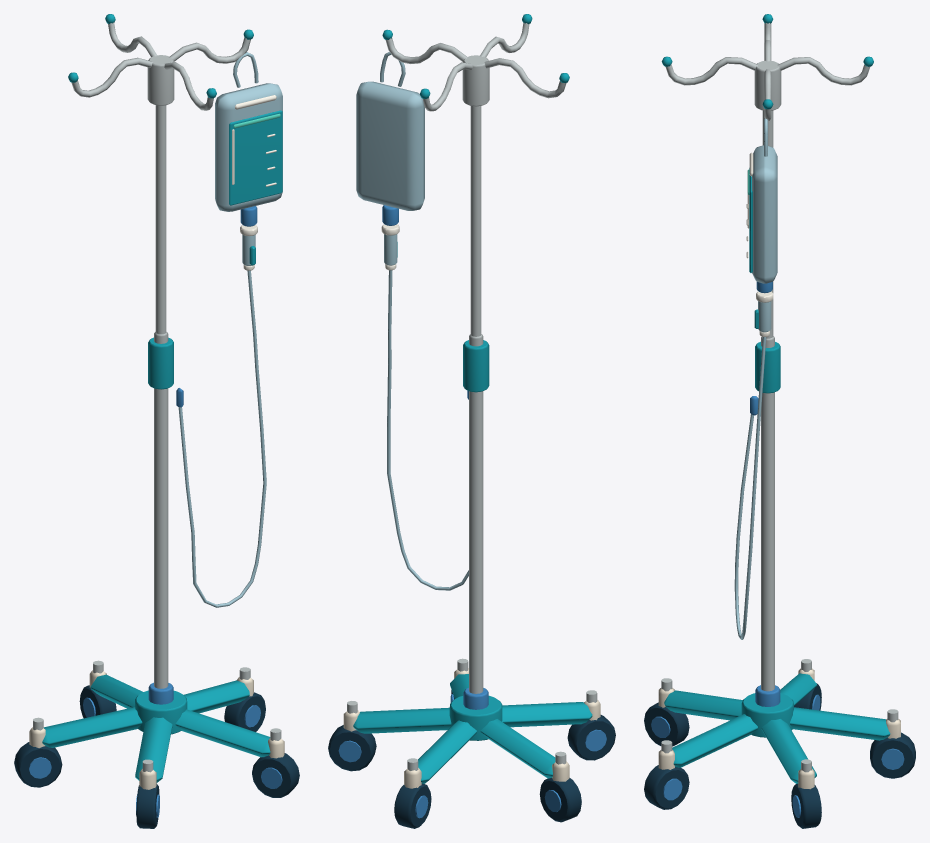
Rendered from iv_stand_standard.glb.
3 renders of one model, left to right at view 1: azimuth 30°, elevation 25°; view 2: azimuth 150°, elevation 25°; view 3: azimuth 270°, elevation 25°, orthographic.
Parts seen in each view (by area): view 1: STATIC_CRNA_Shared_Matte_Atlas; view 2: STATIC_CRNA_Shared_Matte_Atlas; view 3: STATIC_CRNA_Shared_Matte_Atlas.
Boxes of the visible parts, left/top/right/bottom form: STATIC_CRNA_Shared_Matte_Atlas: left=14, top=14, right=299, bottom=828; STATIC_CRNA_Shared_Matte_Atlas: left=328, top=14, right=615, bottom=828; STATIC_CRNA_Shared_Matte_Atlas: left=644, top=14, right=915, bottom=828.
Bounding box in the file's own units: 0.732 × 2.03 × 0.6962.
Materials: 1 (1 with a texture image).
